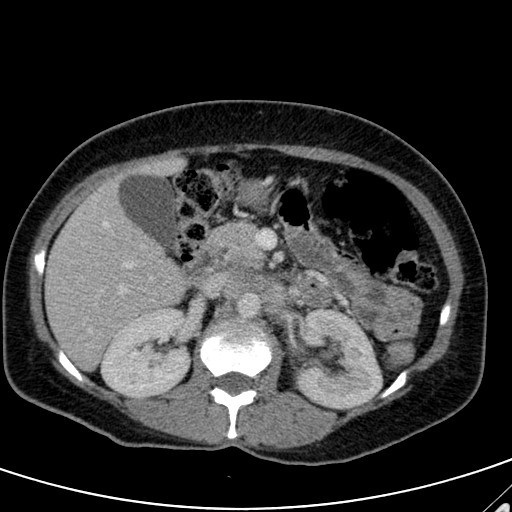vesicula: (117, 172, 183, 261)
